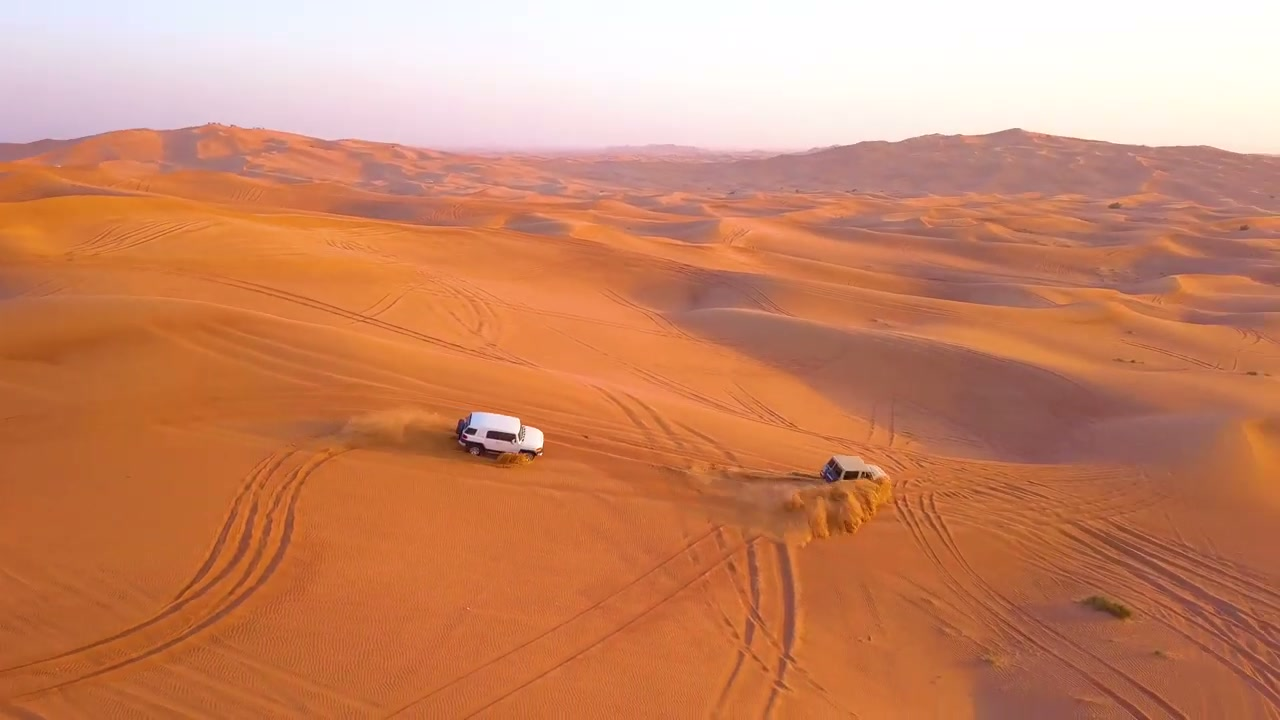vehicle_track: (0, 446, 345, 698), (894, 489, 1185, 719), (385, 525, 722, 717)
